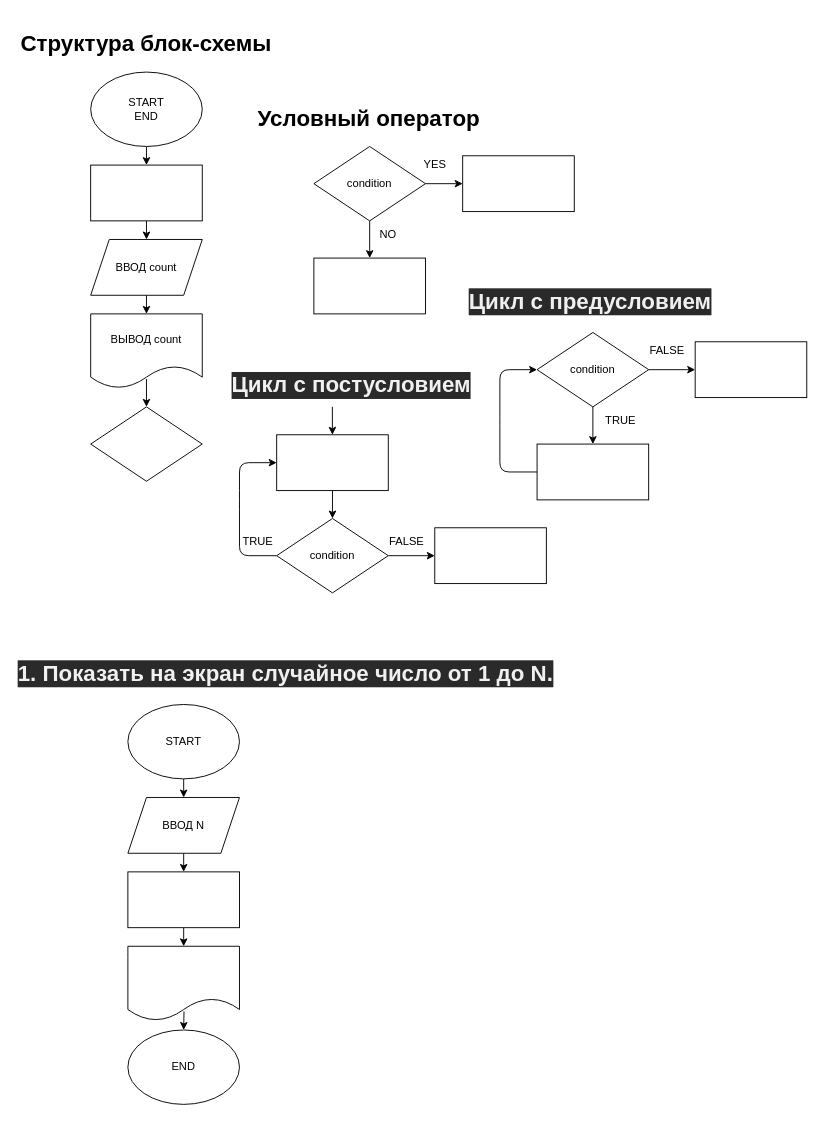
Some shapes in this 823 by 1121 pixel diagram are drawn without their labels. Here are the shapes that lost their labels. From the top down, the centre of each, then its label:
At point 146,192: "count = 0 res = 1 * Sqrt(2)".
At point 146,443: "Проверка условия".
At point 183,899: "r = random(1,N)".
At point 183,983: "ВЫВОД r".
